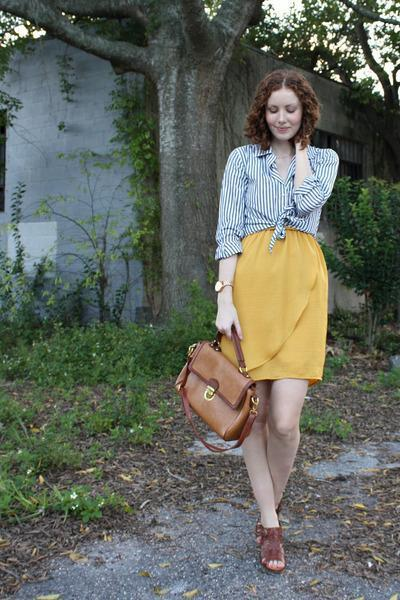bag: (175, 324, 263, 443)
shirt: (216, 144, 338, 256)
shoe: (255, 524, 286, 560)
skirt: (229, 228, 331, 386)
